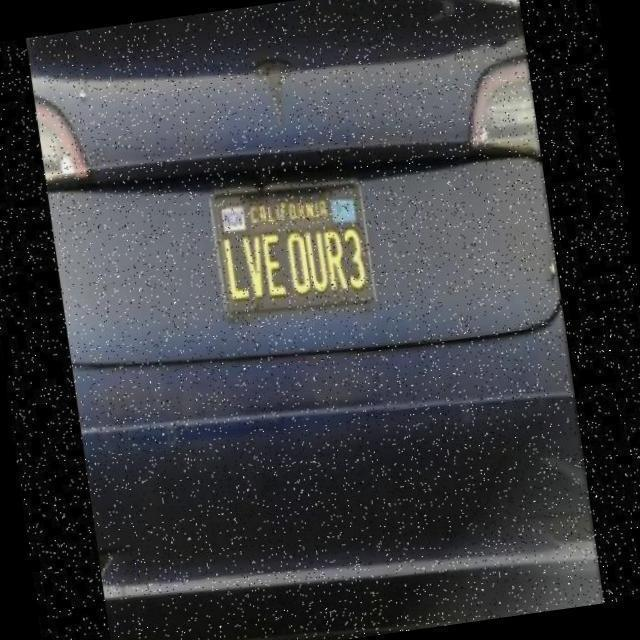license_plate: (208, 166, 376, 322)
